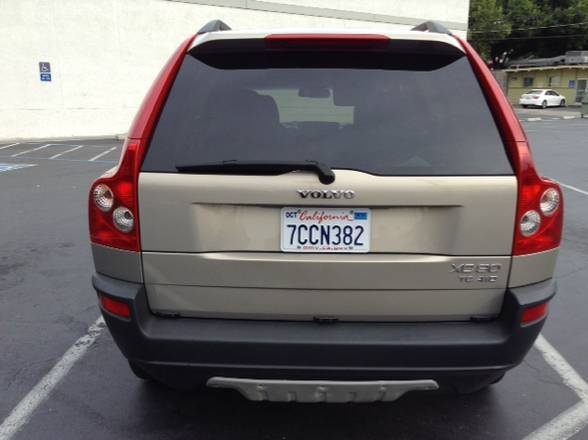volvo: (55, 12, 588, 418)
